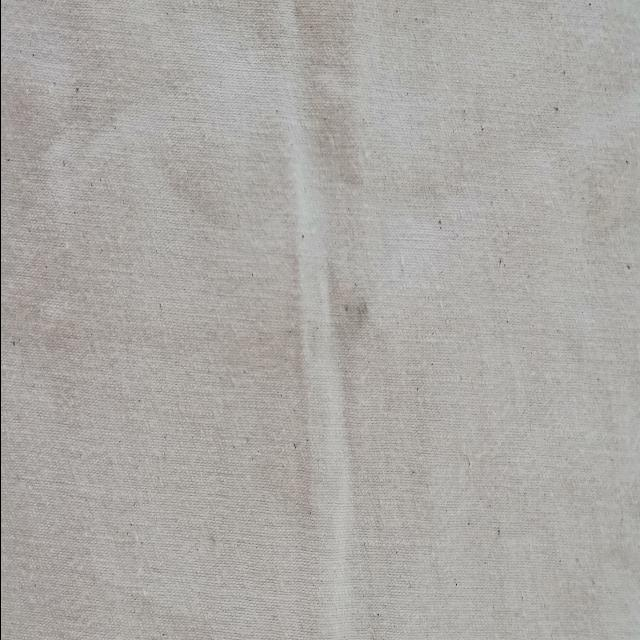taaaches: (314, 270, 382, 382)
